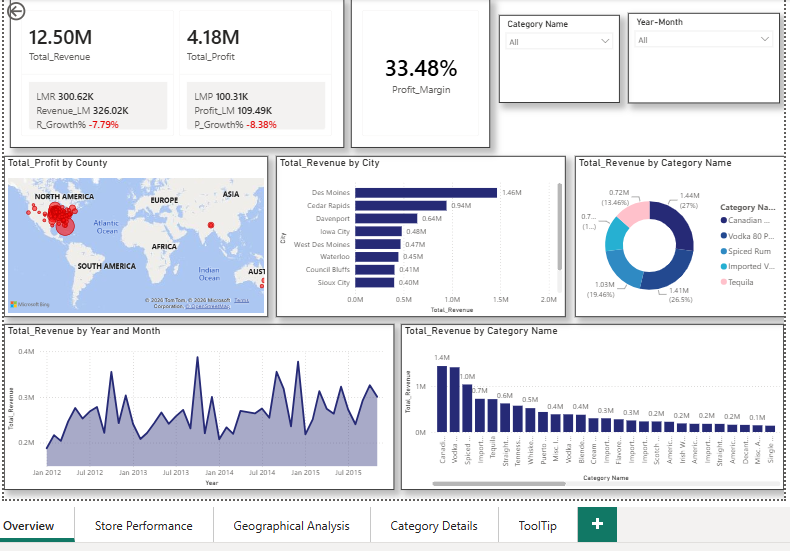

The dashboard page shown, as its layout file describes it:
{"tool":"powerbi","page":{"name":"Overview","canvas":[1280,820],"ordinal":0},"visuals":[{"type":"cardVisual","fields":{"Data":["LiquorSales_dataset.Total_Revenue","LiquorSales_dataset.Total_Profit"]},"box":[10.1,0,547.6,243.6],"z":0},{"type":"slicer","fields":{"Values":["DateTable.Year-Month"]},"box":[1023,23.5,248.6,147.8],"z":1000},{"type":"lineChart","fields":{"Y":["LiquorSales_dataset.Total_Revenue"],"Category":["DateTable.Date.Variation.Date Hierarchy.Year","DateTable.Date.Variation.Date Hierarchy.Month"]},"box":[0,532.5,640,272.1],"z":2000},{"type":"clusteredColumnChart","fields":{"Category":["LiquorSales_dataset.Category Name"],"Y":["LiquorSales_dataset.Total_Revenue"]},"box":[651.8,532.5,628.2,272.1],"z":3000},{"type":"barChart","fields":{"Category":["LiquorSales_dataset.City"],"Y":["LiquorSales_dataset.Total_Revenue"]},"box":[446.8,257,475.4,263.7],"z":4000},{"type":"map","fields":{"Category":["LiquorSales_dataset.County"],"Size":["LiquorSales_dataset.Total_Profit"]},"box":[0,257,433.4,263.7],"z":5000},{"type":"donutChart","fields":{"Y":["LiquorSales_dataset.Total_Revenue"],"Category":["LiquorSales_dataset.Category Name"]},"box":[935.6,257,344.4,263.7],"z":6000},{"type":"cardVisual","title":"Profit Margin","fields":{"Data":["LiquorSales_dataset.Profit_Margin"]},"box":[569.4,0,228.5,243.6],"z":7000},{"type":"actionButton","box":[0,0,100,40],"z":7001},{"type":"slicer","fields":{"Values":["LiquorSales_dataset.Category Name"]},"box":[811.3,26.9,198.2,144.5],"z":7002}]}

Visuals, with their boxes in screenshot pixels (x1, y1, x2, y2):
cardVisual - LiquorSales_dataset.Total_Revenue x LiquorSales_dataset.Total_Profit: 8/0/342/146
slicer - DateTable.Year-Month: 625/12/776/102
lineChart - LiquorSales_dataset.Total_Revenue x DateTable.Date.Variation.Date Hierarchy.Year: 2/322/392/488
clusteredColumnChart - LiquorSales_dataset.Category Name x LiquorSales_dataset.Total_Revenue: 399/322/781/488
barChart - LiquorSales_dataset.City x LiquorSales_dataset.Total_Revenue: 274/154/563/315
map - LiquorSales_dataset.County x LiquorSales_dataset.Total_Profit: 2/154/266/315
donutChart - LiquorSales_dataset.Total_Revenue x LiquorSales_dataset.Category Name: 572/154/781/315
"Profit Margin" cardVisual: 349/0/488/146
actionButton: 2/0/63/22
slicer - LiquorSales_dataset.Category Name: 496/14/617/102
